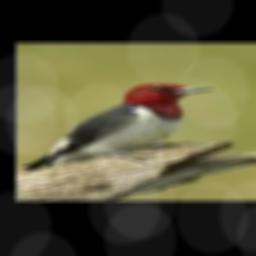Woodpecker: (22, 83, 216, 171)
